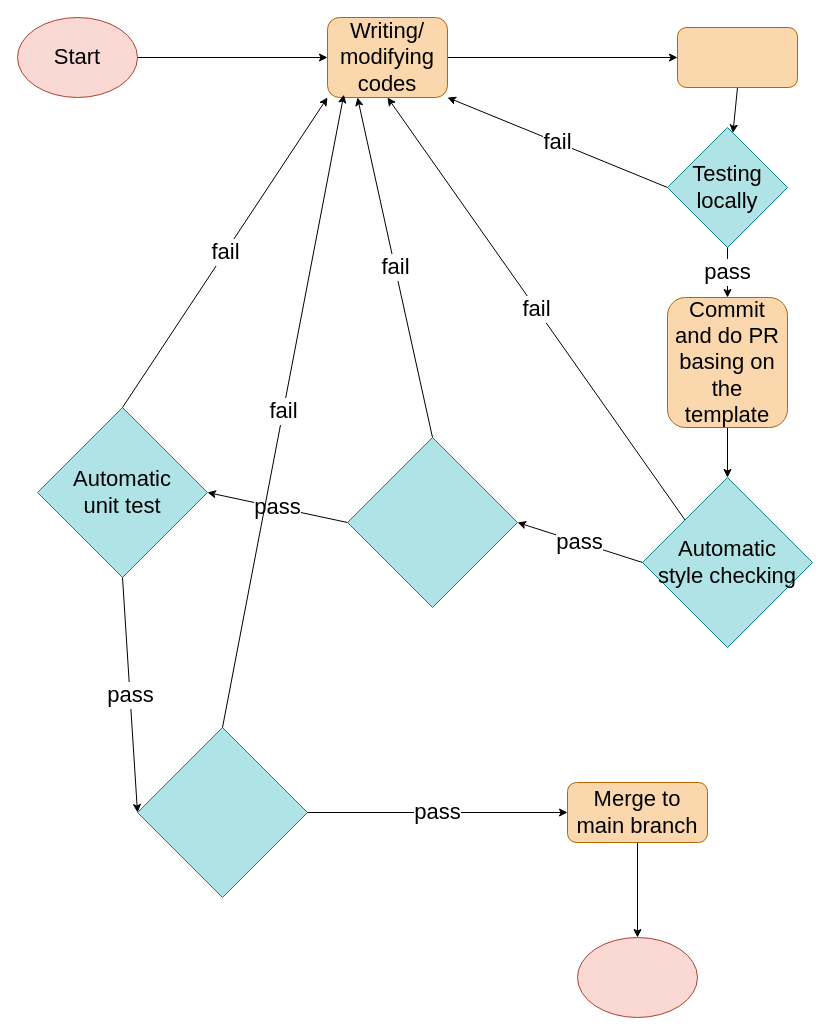
Some shapes in this 830 by 1035 pixel diagram are drawn without their labels. Here are the shapes that lost their labels. From the top down, the box of each, then its label:
(676, 26, 798, 88): Writing comments
(346, 436, 518, 608): Automatic code quality checking
(136, 726, 308, 898): Checking code quality by human
(576, 936, 698, 1018): End
